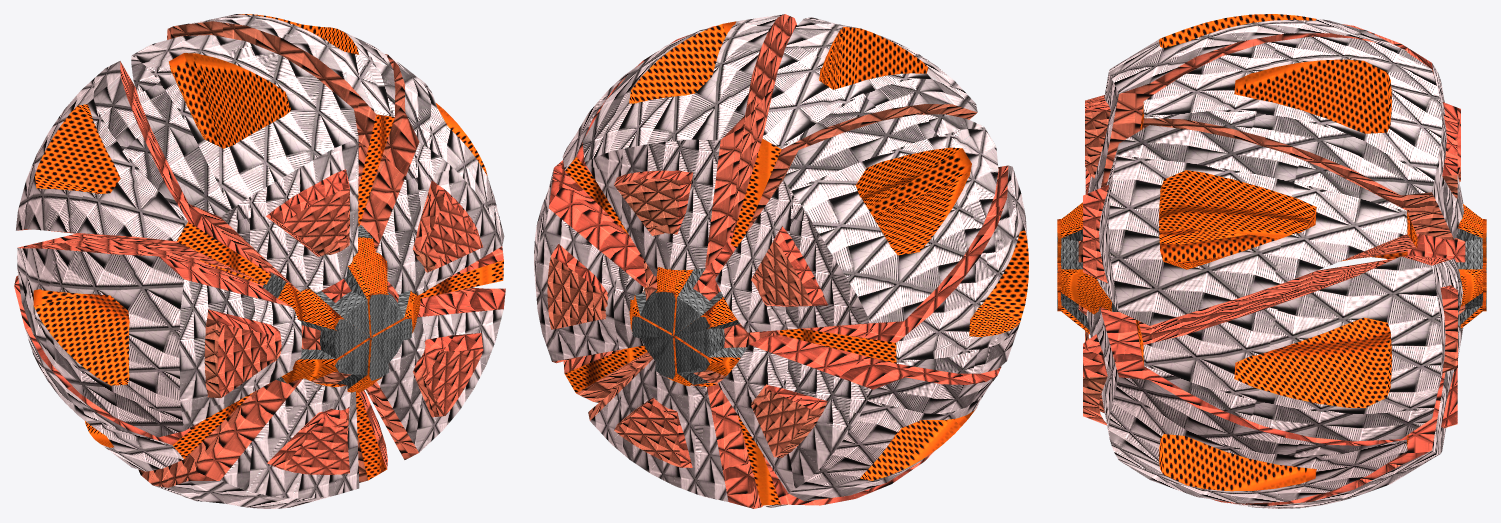
The model's file is RollingBalls_Sci-fi_3_4.glb.
3 views of the same model, side by side, from view 1: azimuth 30°, elevation 25°; view 2: azimuth 150°, elevation 25°; view 3: azimuth 270°, elevation 25° (orthographic). The views are drawn at different scales.
Visible parts, largest first — view 1: RollingBalls_Sci-fi_3_4; view 2: RollingBalls_Sci-fi_3_4; view 3: RollingBalls_Sci-fi_3_4.
Part boxes in pixels (left/top/right/bottom): RollingBalls_Sci-fi_3_4: left=14, top=14, right=505, bottom=508; RollingBalls_Sci-fi_3_4: left=534, top=14, right=1028, bottom=508; RollingBalls_Sci-fi_3_4: left=1057, top=14, right=1486, bottom=508.
Bounding box in the file's own units: 1.67 × 1.69 × 1.45.
Materials: 4 (4 with a texture image).
